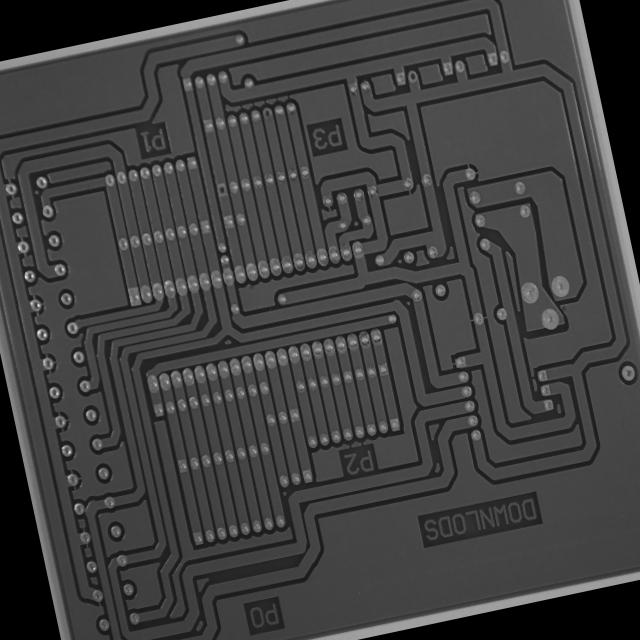missing_hole: (404, 62, 422, 86), (214, 178, 230, 198), (260, 103, 275, 122)
